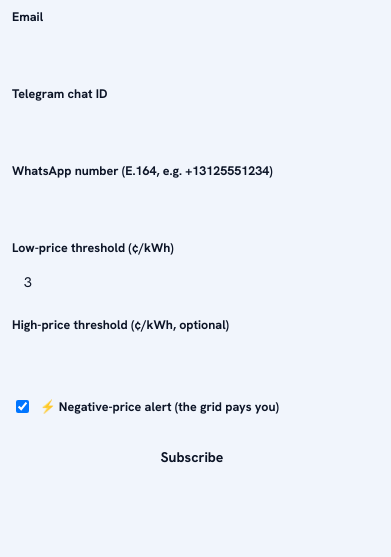
SubscribeForm › requires at least one channel before submitting
The width and height of the screenshot is (391, 557).
Click the button "Subscribe" at (192, 457), box [12,436,372,478]
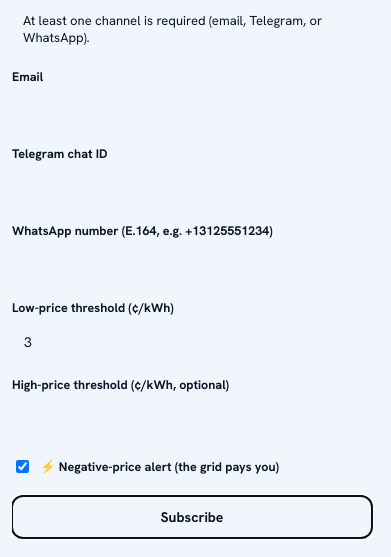
Expected: the text "At least one channel is required (email, Telegram, or WhatsApp)." is shown, [23,12,322,46]
